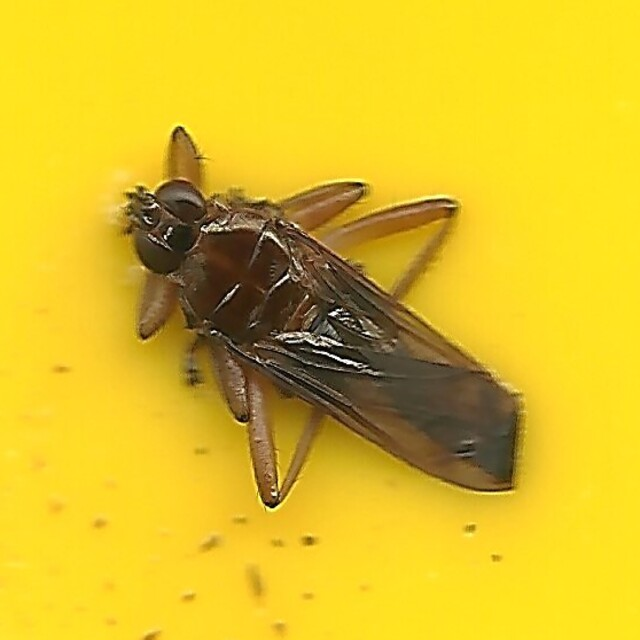Hemiptera: (115, 123, 525, 517)
